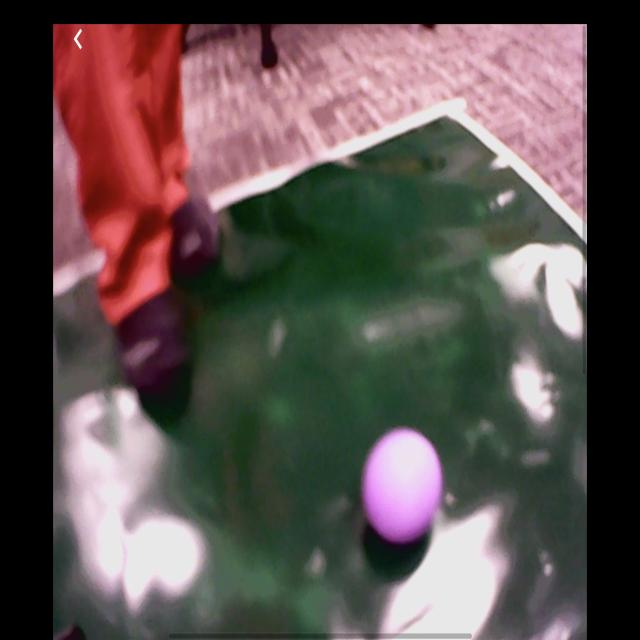ball: (362, 426, 445, 542)
